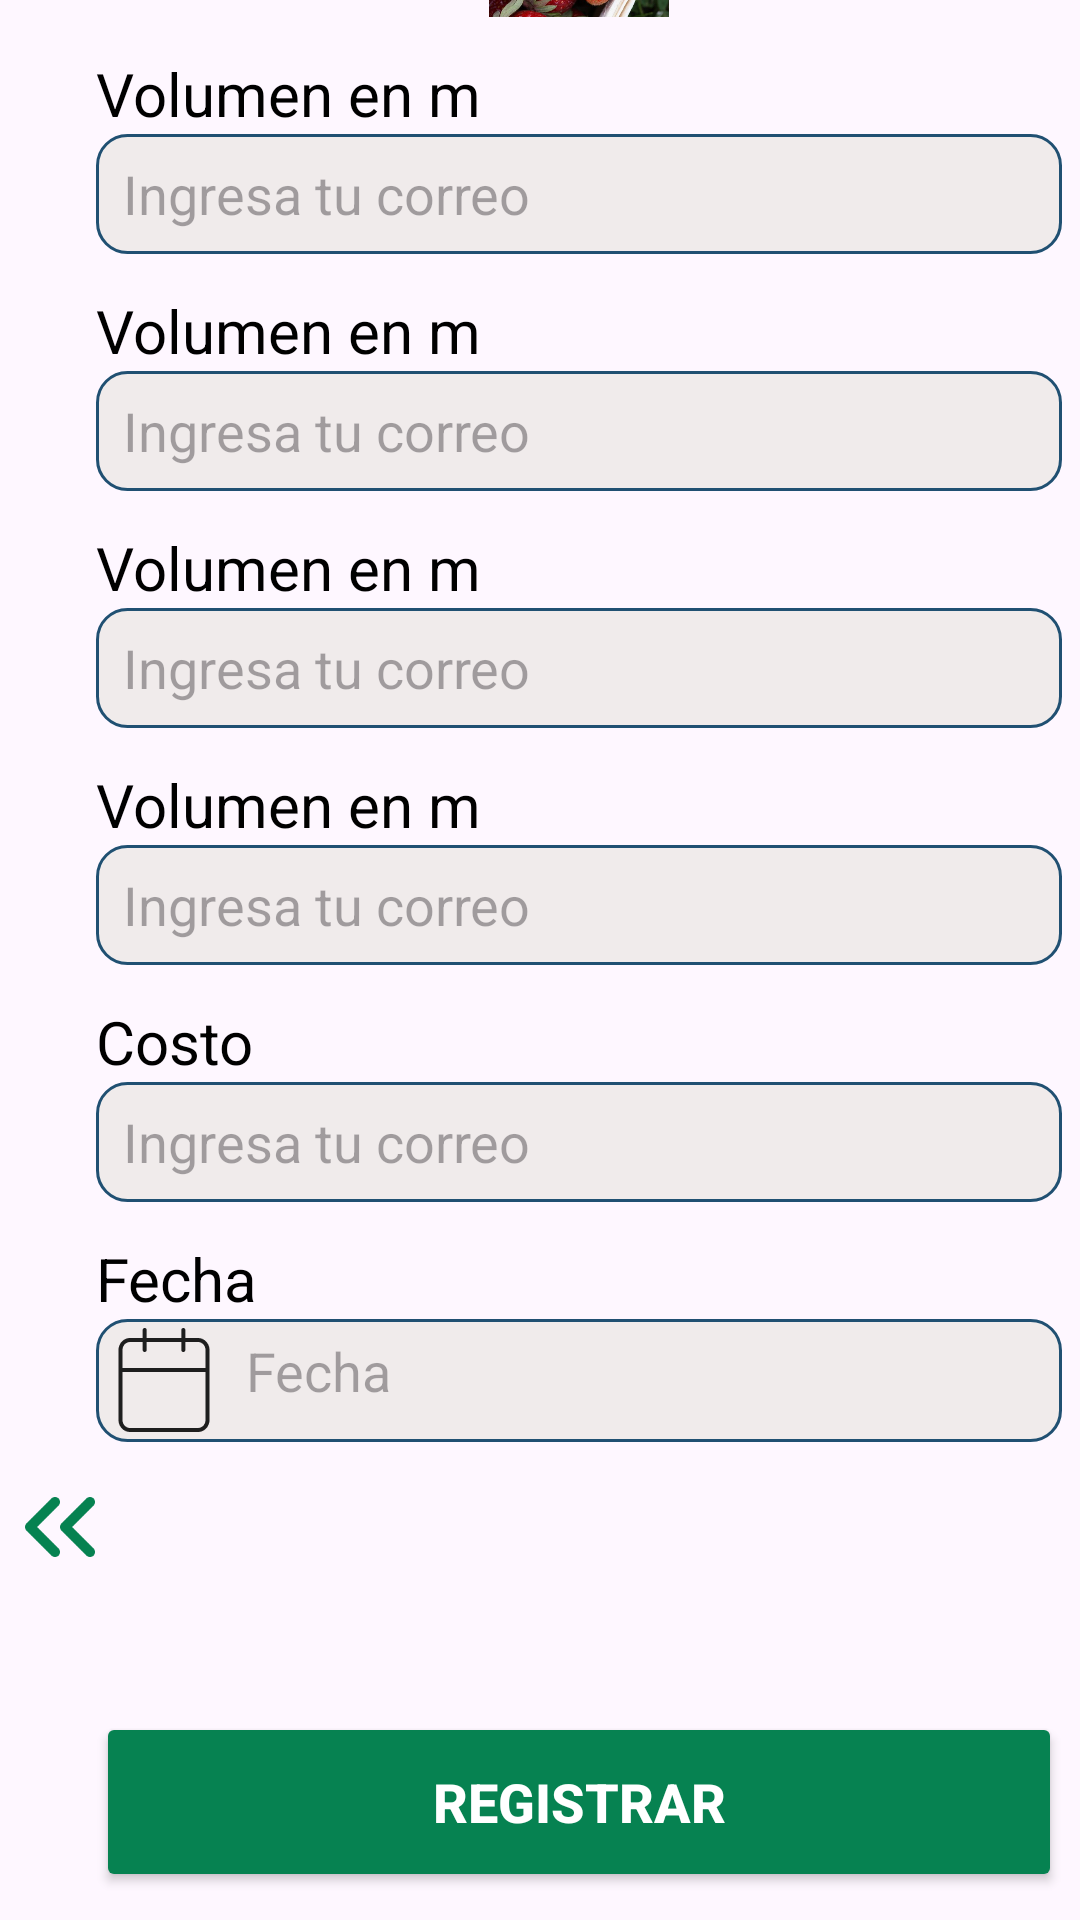

Icons on this 1080px×1920px Android screen, each with the point to tap as (x,y):
chevrons left: (60,1527)
